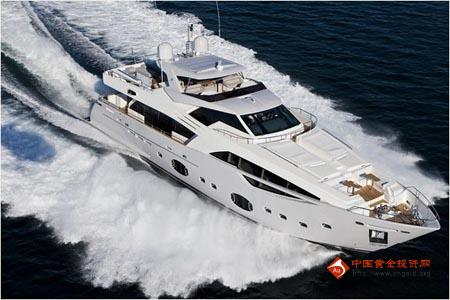yacht: (79, 20, 441, 259)
